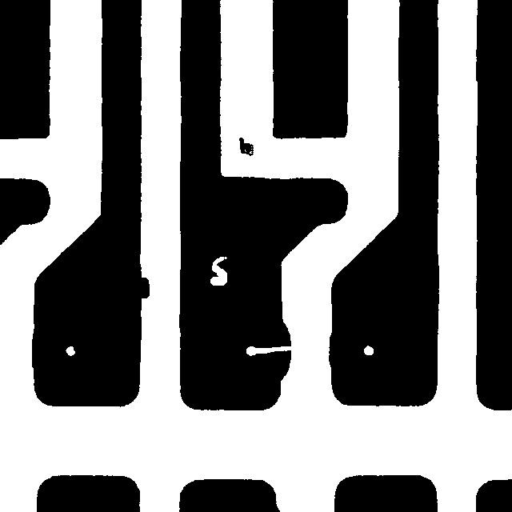copper: (231, 130, 261, 163)
open: (244, 338, 302, 361)
pin-hole: (202, 249, 234, 293)
spur: (129, 270, 157, 306)
